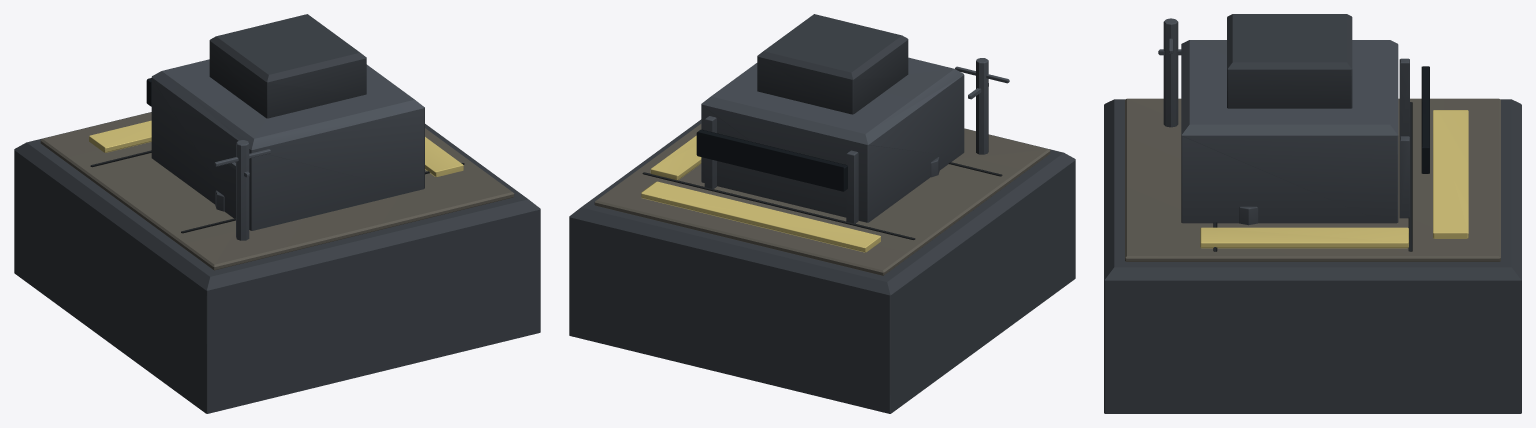
Rendered from command_hq.glb.
3 renders of one model, left to right at view 1: azimuth 30°, elevation 25°; view 2: azimuth 150°, elevation 25°; view 3: azimuth 270°, elevation 25°, orthographic. The views are drawn at different scales.
Parts seen in each view (by area): view 1: Body; view 2: Body; view 3: Body.
Part boxes in pixels (x1,y1,x2,y2): Body: (14, 14, 540, 413); Body: (569, 14, 1075, 413); Body: (1104, 14, 1521, 413).
Bounding box in the file's own units: 9 × 6.85 × 9.
